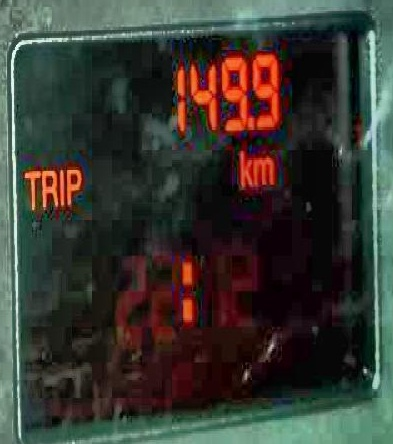-: (245, 111, 254, 133)
1: (172, 53, 186, 142)
4: (188, 51, 217, 137)
9: (250, 49, 284, 129), (219, 49, 246, 129)
X: (175, 246, 194, 333), (22, 158, 41, 218), (65, 158, 84, 209), (41, 164, 57, 213), (252, 153, 273, 188), (238, 144, 252, 189), (58, 160, 64, 209)
